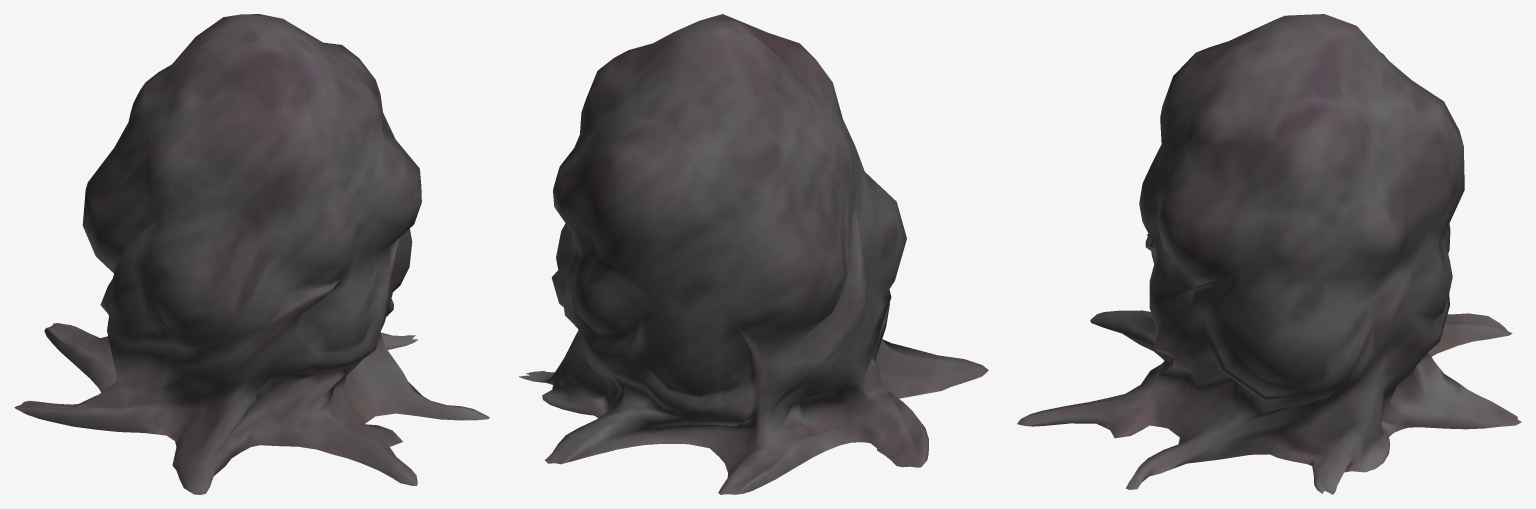
File: Cocoon (11).fbx
The picture shows the model from 3 angles, left to right: view 1: azimuth 30°, elevation 25°; view 2: azimuth 150°, elevation 25°; view 3: azimuth 270°, elevation 25°; orthographic projection. The views are drawn at different scales.
Parts seen in each view (by area): view 1: Egg; view 2: Egg; view 3: Egg.
Part boxes in pixels (x1,y1,x2,y2): Egg: (14, 14, 489, 494); Egg: (519, 14, 988, 494); Egg: (1017, 14, 1521, 494).
Bounding box in the file's own units: 1.6 × 1.46 × 1.69.
Materials: 1 (1 with a texture image).
